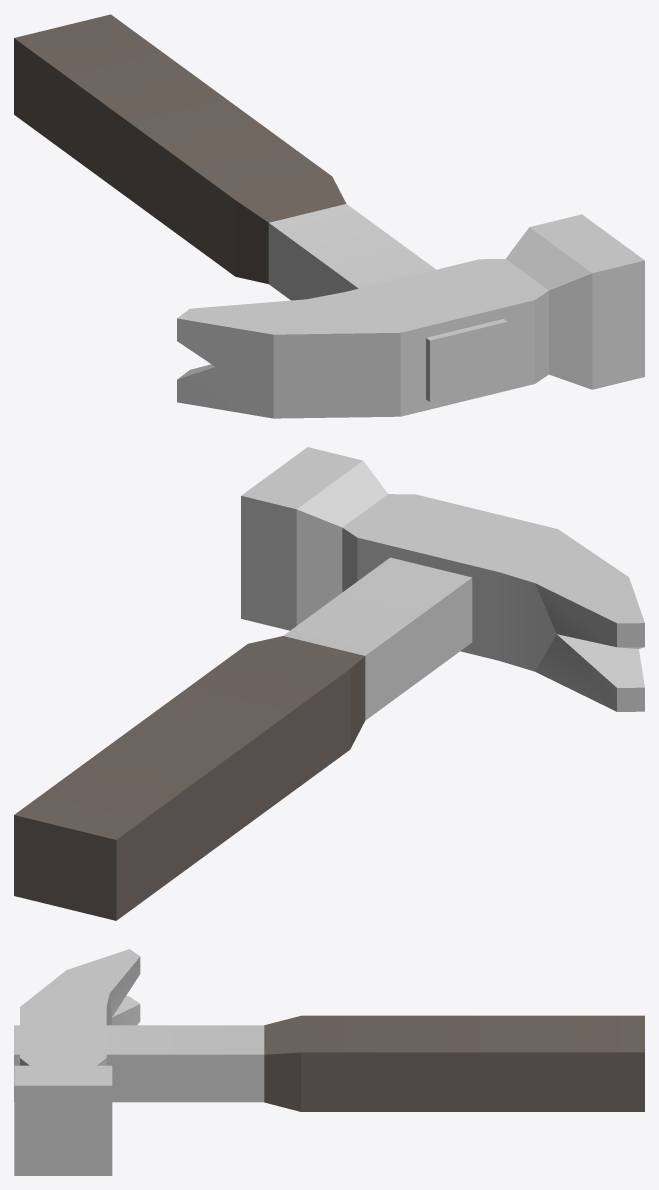
The model's file is Hammer_01.fbx.
The picture shows the model from 3 angles, top to bottom: view 1: azimuth 30°, elevation 25°; view 2: azimuth 150°, elevation 25°; view 3: azimuth 270°, elevation 25°; orthographic projection. The views are drawn at different scales.
Parts seen in each view (by area): view 1: Hammer_01; view 2: Hammer_01; view 3: Hammer_01.
Part boxes in pixels (left/top/right/bottom): Hammer_01: left=14, top=14, right=644, bottom=418; Hammer_01: left=14, top=447, right=644, bottom=920; Hammer_01: left=14, top=949, right=644, bottom=1175.
Bounding box in the file's own units: 46.7 × 13.21 × 83.48.
